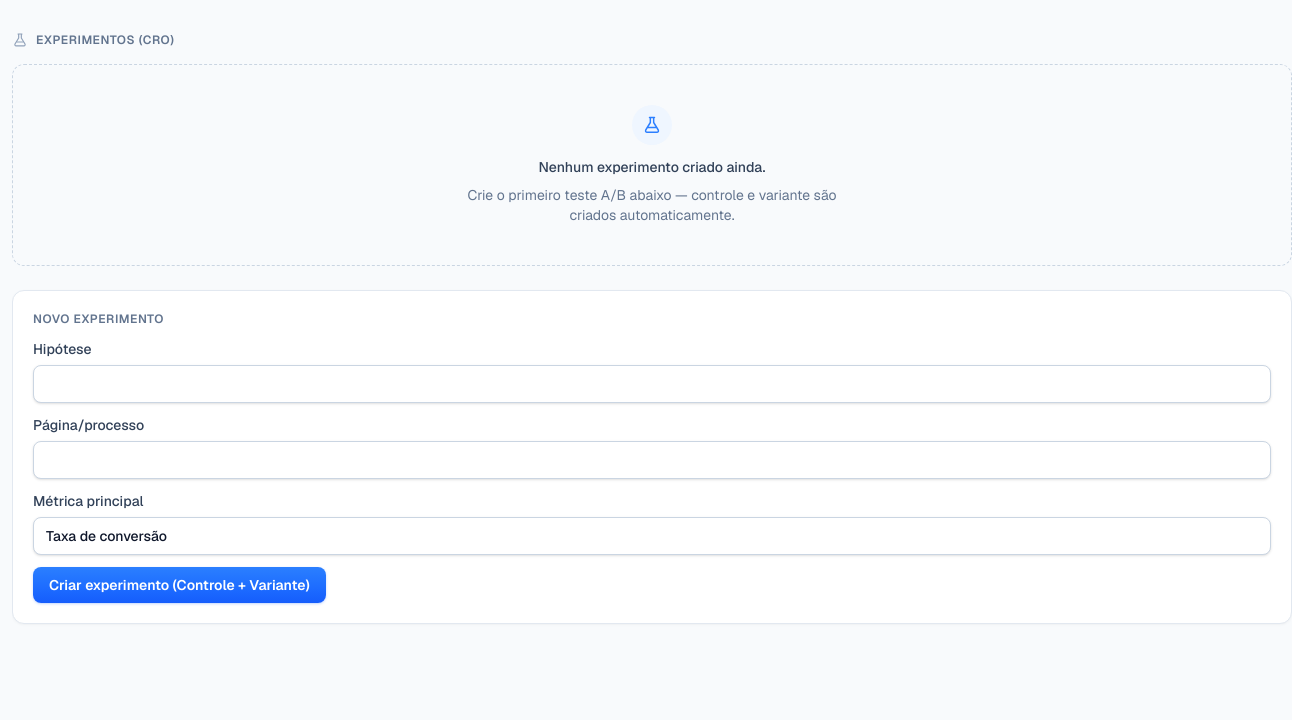
it: ExperimentsPage › cria experimento com Controle + Variante
Expected: the text "Nenhum experimento criado ainda." is shown, [538, 157, 766, 177]
Type "Botão verde converte mais" into the field labelled "Hipótese" at (652, 384), box [33, 365, 1271, 403]
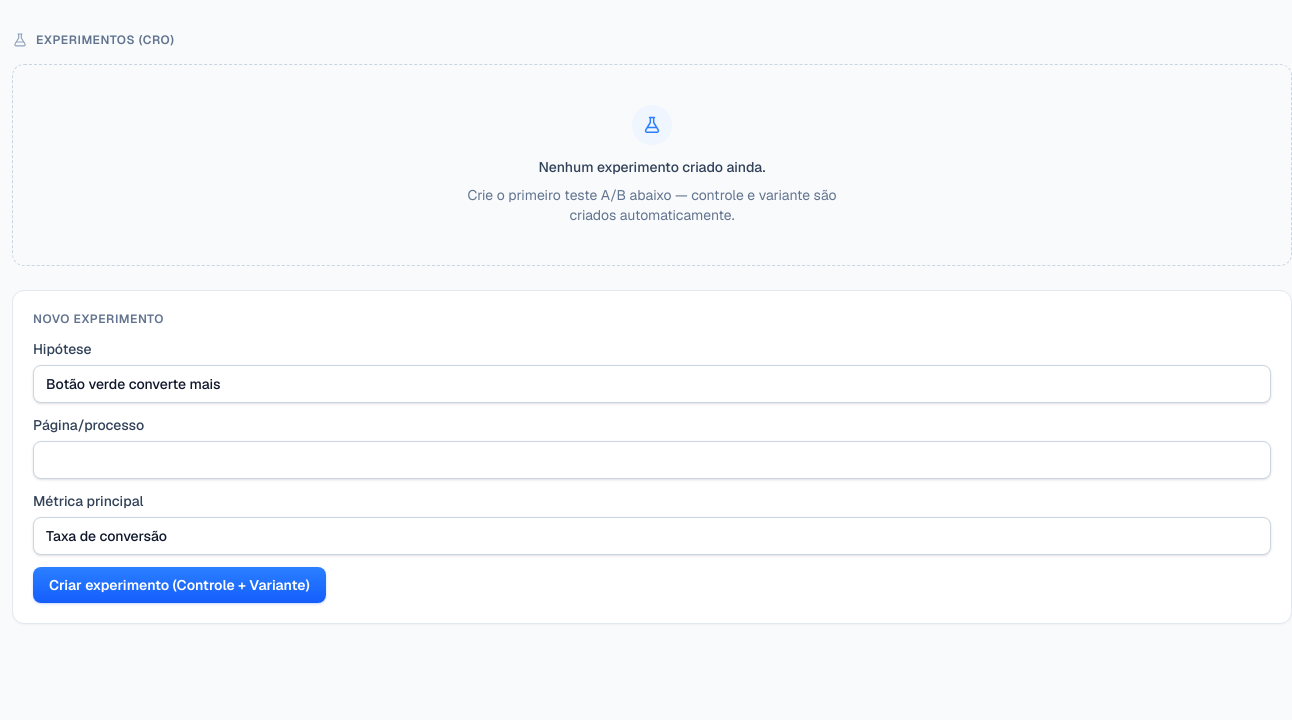
Type "Checkout" into the field labelled "Página/processo" at (652, 460), box [33, 441, 1271, 479]
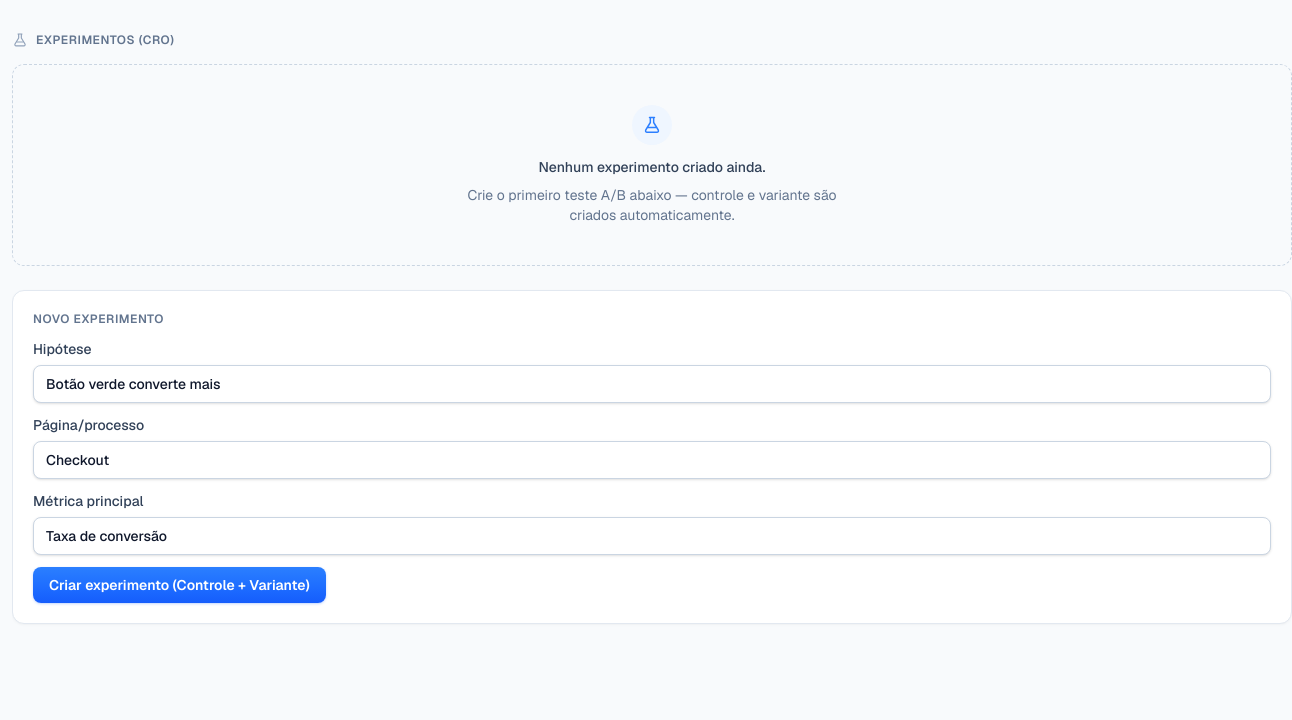
Click the button "Criar experimento (Controle + Variante)" at (179, 585), box [33, 567, 326, 603]
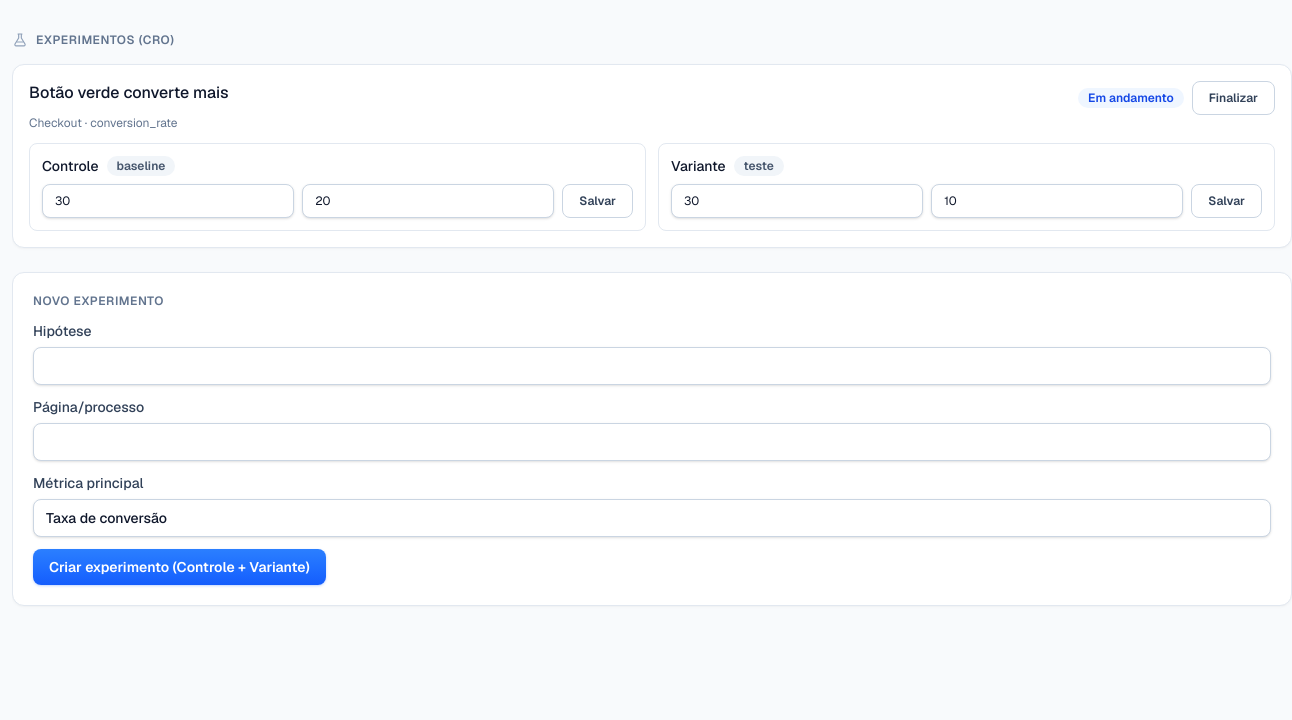
Expected: the text "Botão verde converte mais" is shown, [29, 81, 228, 105]
